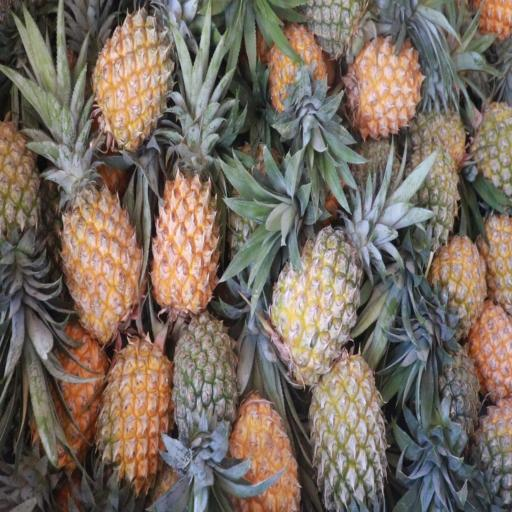------------------------------: (274, 234, 357, 378), (310, 359, 384, 512)
Pineapple - v8 v1: (61, 168, 136, 336), (97, 14, 173, 148), (151, 172, 218, 320), (104, 338, 172, 479), (35, 332, 103, 469), (229, 399, 300, 512), (355, 38, 424, 132), (0, 118, 42, 264), (270, 28, 331, 124), (432, 240, 484, 336)
